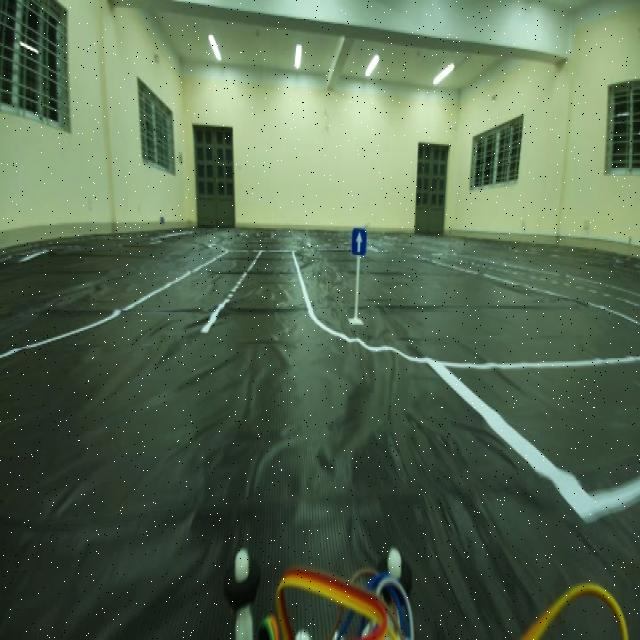onewayroad: (347, 218, 366, 259)
